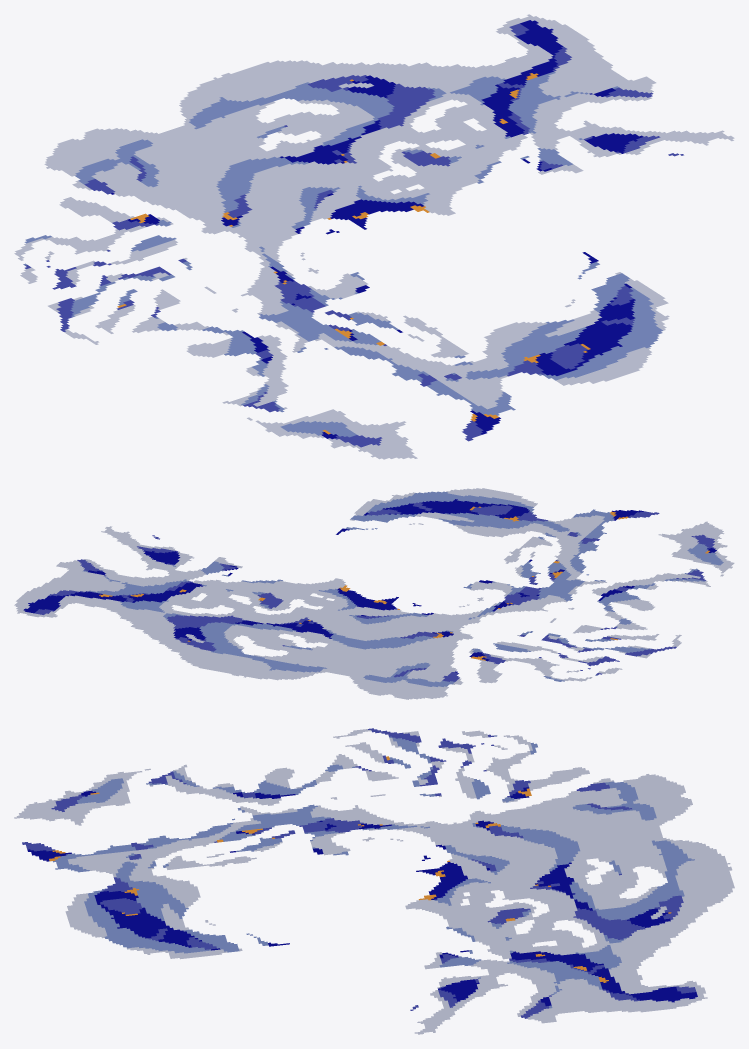
Rendered from weather.dae.
The picture shows the model from 3 angles, top to bottom: view 1: azimuth 30°, elevation 25°; view 2: azimuth 150°, elevation 25°; view 3: azimuth 270°, elevation 25°; orthographic projection. The views are drawn at different scales.
Visible parts, largest first — view 1: Cube, Cube_001, Cube_002, Cube_003, Cube_004; view 2: Cube, Cube_001, Cube_002, Cube_003, Cube_004; view 3: Cube, Cube_001, Cube_002, Cube_003, Cube_004.
Part boxes in pixels (x1,y1,x2,y2): Cube: [14, 14, 734, 459]; Cube_001: [23, 71, 662, 437]; Cube_002: [25, 23, 683, 447]; Cube_003: [111, 20, 643, 439]; Cube_004: [117, 73, 590, 434]; Cube: [14, 488, 734, 699]; Cube_001: [82, 491, 723, 686]; Cube_002: [34, 502, 714, 681]; Cube_003: [23, 499, 716, 672]; Cube_004: [99, 506, 709, 660]; Cube: [14, 729, 734, 1034]; Cube_001: [52, 735, 694, 1008]; Cube_002: [22, 728, 696, 1018]; Cube_003: [27, 787, 697, 1006]; Cube_004: [49, 756, 671, 982].
Size of the model in its own units: 27.01 by 26.65 by 1.64.
